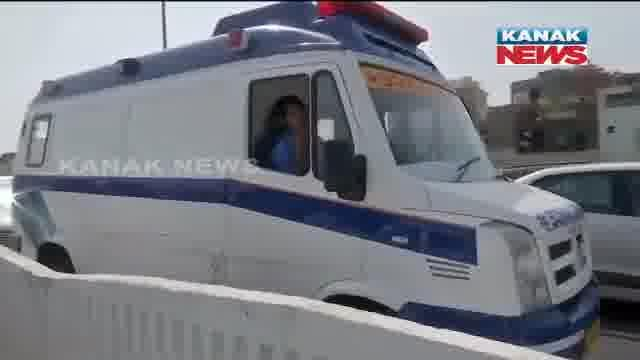AMBULANCE: (12, 5, 604, 352)
